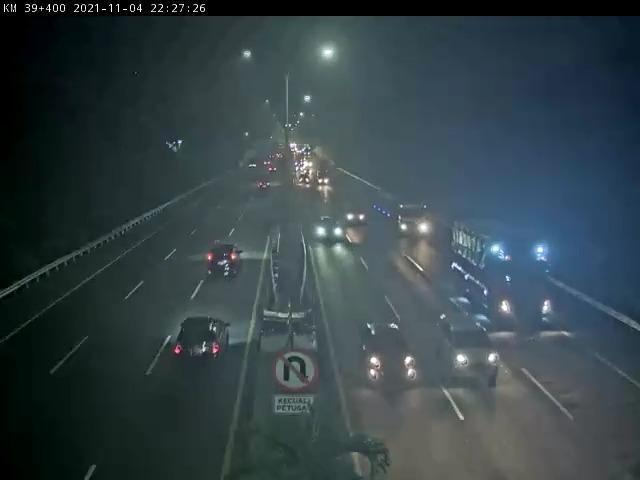car: (430, 297, 502, 386), (362, 320, 418, 383), (173, 319, 234, 361), (207, 242, 244, 276), (314, 213, 344, 241), (344, 206, 367, 225)
truck: (454, 220, 558, 328), (372, 192, 431, 239)
